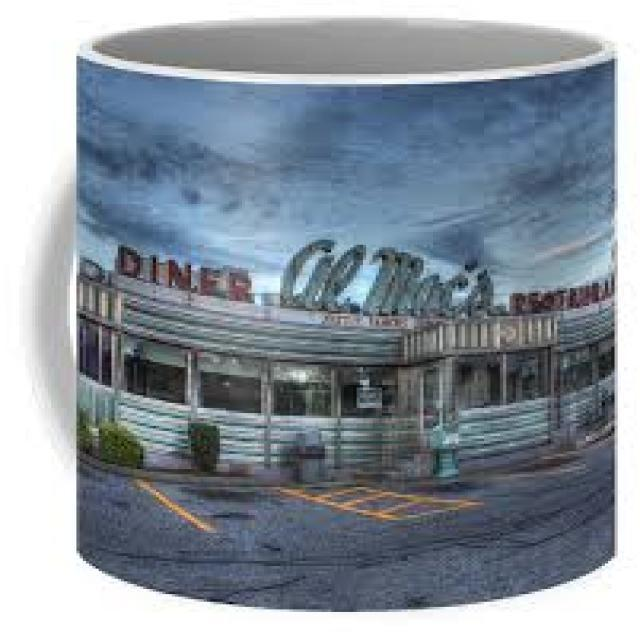taza: (28, 15, 640, 613)
